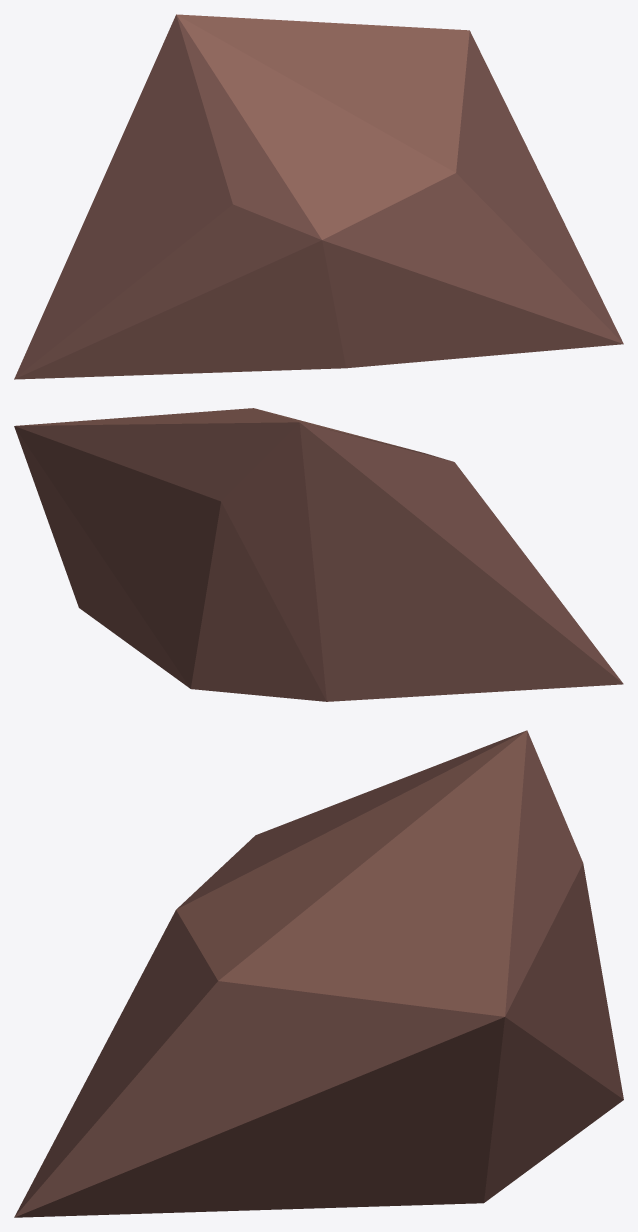
Rendered from TreeStump.lod4.glb.
3 views of the same model, one above another, from view 1: azimuth 30°, elevation 25°; view 2: azimuth 150°, elevation 25°; view 3: azimuth 270°, elevation 25° (orthographic). The views are drawn at different scales.
Visible parts, largest first — view 1: TreeStump; view 2: TreeStump; view 3: TreeStump.
Boxes of the visible parts, left/top/right/bottom form: TreeStump: left=14, top=14, right=623, bottom=379; TreeStump: left=14, top=408, right=623, bottom=701; TreeStump: left=14, top=730, right=623, bottom=1217.
Bounding box in the file's own units: 1.36 × 0.6246 × 1.05.
